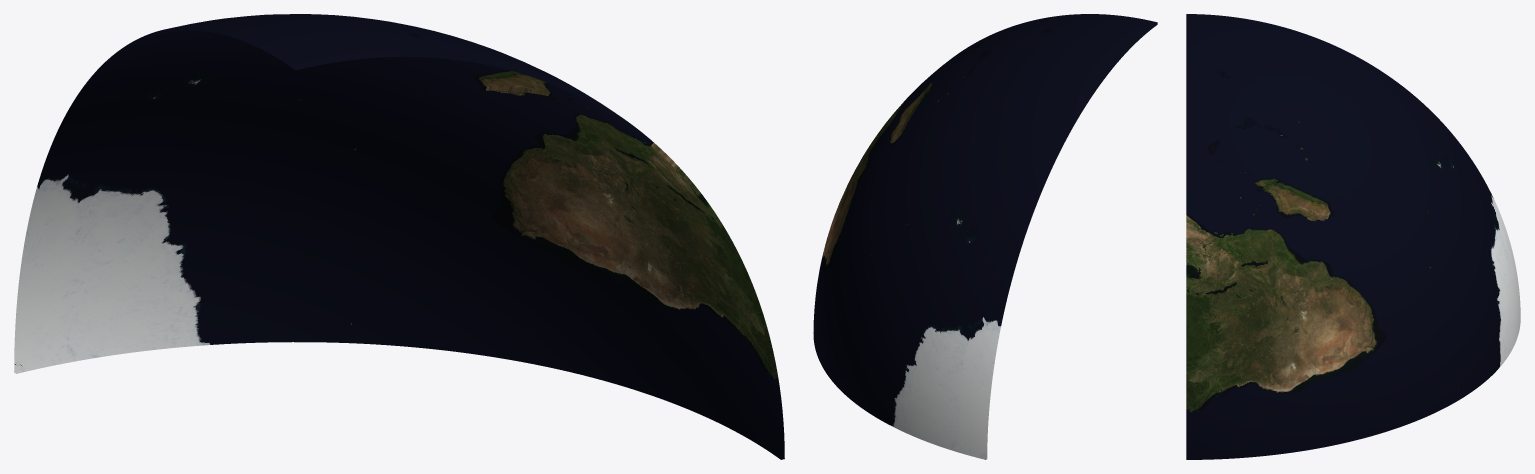
3 views of the same model, side by side, from view 1: azimuth 30°, elevation 25°; view 2: azimuth 150°, elevation 25°; view 3: azimuth 270°, elevation 25° (orthographic). The views are drawn at different scales.
Parts seen in each view (by area): view 1: DefaultName.001, DefaultName.007, DefaultName.005, DefaultName.003; view 2: DefaultName.003, DefaultName.005, DefaultName.007, DefaultName.001; view 3: DefaultName.001, DefaultName.003, DefaultName.007, DefaultName.005.
Part boxes in pixels (x1,y1,x2,y2): DefaultName.001: (341,86,784,459); DefaultName.007: (16,118,443,373); DefaultName.005: (14,60,341,373); DefaultName.003: (97,14,641,134); DefaultName.003: (885,14,1157,229); DefaultName.005: (887,196,1036,459); DefaultName.007: (825,230,985,459); DefaultName.001: (813,73,933,370); DefaultName.001: (1186,203,1422,459); DefaultName.003: (1186,14,1422,236); DefaultName.007: (1422,237,1520,418); DefaultName.005: (1422,103,1520,313).
Bounding box in the file's own units: 63781 × 63781 × 63568.
4 materials, 4 textured.
